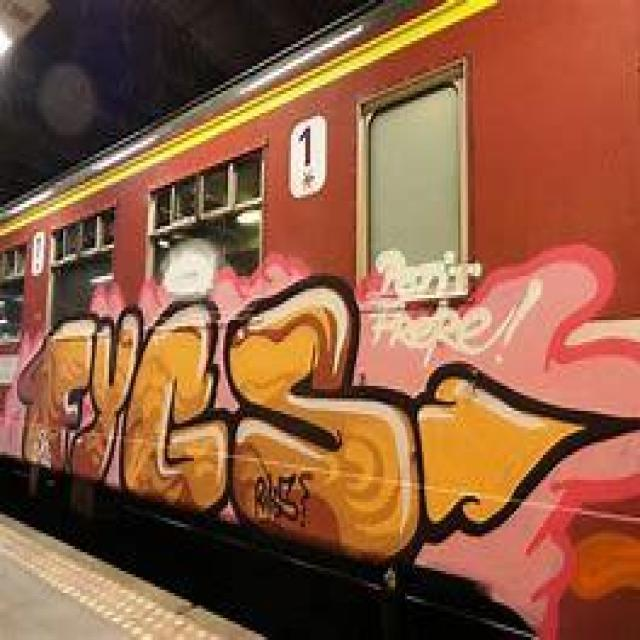nonspitting: (15, 276, 640, 567), (366, 251, 547, 366), (247, 464, 312, 530)
